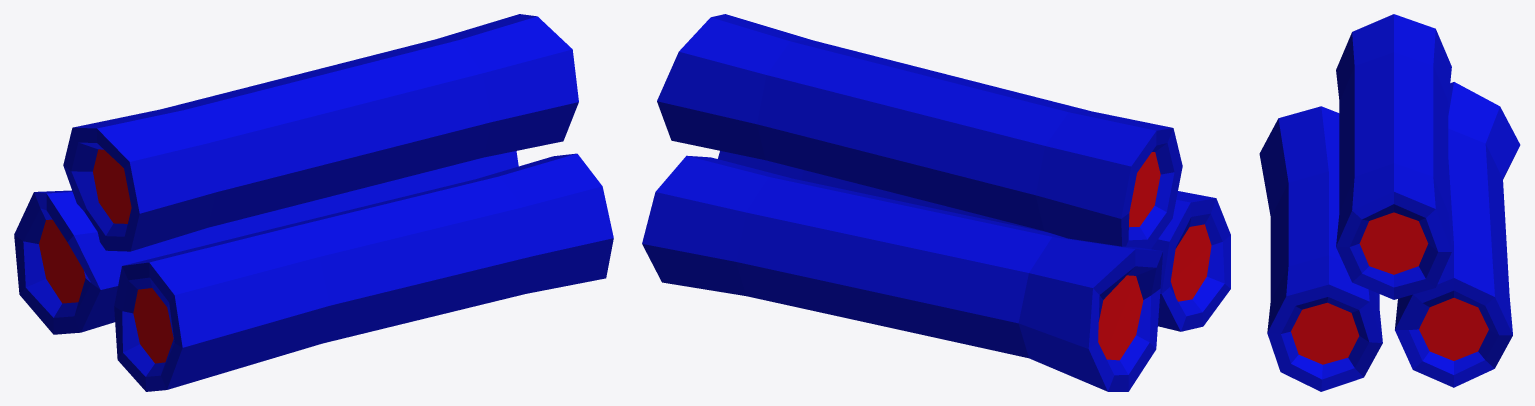
File: SM_Short_LogStack8.fbx
The picture shows the model from 3 angles, left to right: view 1: azimuth 30°, elevation 25°; view 2: azimuth 150°, elevation 25°; view 3: azimuth 270°, elevation 25°; orthographic projection. The views are drawn at different scales.
Visible parts, largest first — view 1: SM_Short_LogStack8; view 2: SM_Short_LogStack8; view 3: SM_Short_LogStack8.
Part boxes in pixels (left/top/right/bottom): SM_Short_LogStack8: left=14, top=14, right=613, bottom=391; SM_Short_LogStack8: left=642, top=14, right=1230, bottom=391; SM_Short_LogStack8: left=1259, top=14, right=1520, bottom=391.
Bounding box in the file's own units: 80.58 × 38.14 × 45.49.
